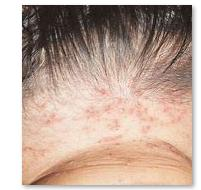Lice: (84, 86, 127, 121), (133, 95, 162, 140), (35, 101, 61, 126), (164, 96, 186, 125), (25, 143, 52, 162), (95, 132, 124, 149), (87, 102, 105, 122), (95, 85, 111, 104), (144, 114, 156, 135), (106, 119, 122, 133), (137, 102, 150, 116)
